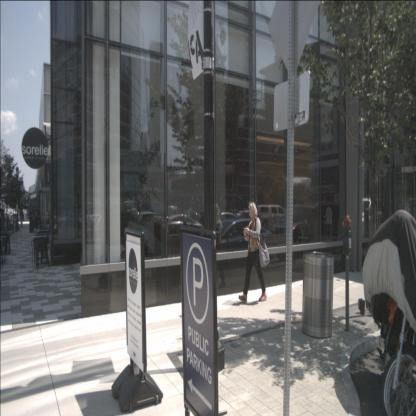human-pedestrian-adult: (238, 202, 270, 303), (209, 203, 227, 288), (323, 203, 334, 242)
vehicle-car: (273, 202, 344, 254), (204, 219, 276, 268), (164, 212, 206, 244), (256, 204, 291, 232), (216, 213, 245, 234)
vehicle-motorcycle: (362, 209, 415, 415)
